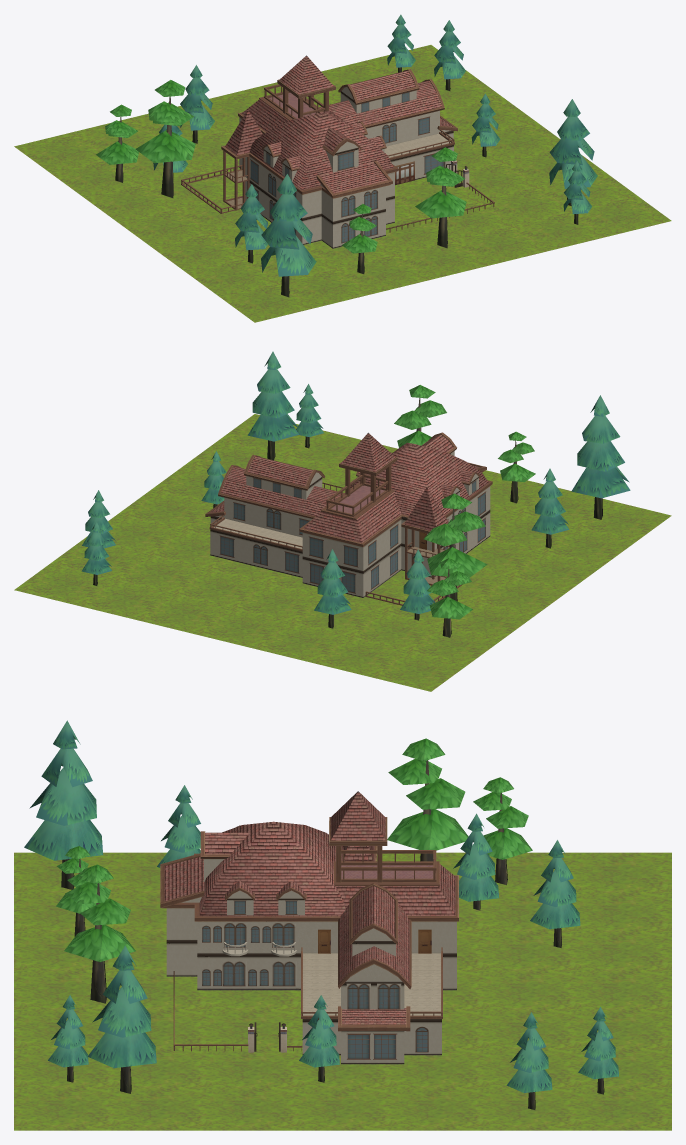
File: zhuzhai_yangfang01_lod.FBX
The picture shows the model from 3 angles, top to bottom: view 1: azimuth 30°, elevation 25°; view 2: azimuth 150°, elevation 25°; view 3: azimuth 270°, elevation 25°; orthographic projection. The views are drawn at different scales.
Visible parts, largest first — view 1: caodi, zhuzhai_yangfang01_lod, shu; view 2: caodi, zhuzhai_yangfang01_lod, shu; view 3: caodi, zhuzhai_yangfang01_lod, shu.
Part boxes in pixels (x1,y1,x2,y2): caodi: (14, 45, 671, 322); zhuzhai_yangfang01_lod: (181, 55, 494, 248); shu: (96, 14, 597, 297); caodi: (14, 414, 671, 691); zhuzhai_yangfang01_lod: (205, 432, 492, 605); shu: (81, 351, 630, 637); caodi: (14, 852, 671, 1130); zhuzhai_yangfang01_lod: (160, 791, 458, 1064); shu: (24, 720, 618, 1109).
Bounding box in the file's own units: 6400 × 2042 × 6400.
